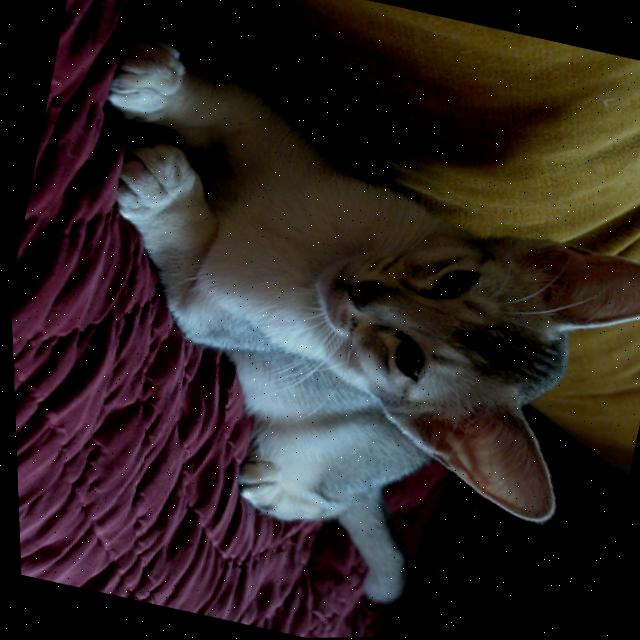Abyssinian: (1, 20, 640, 640)
